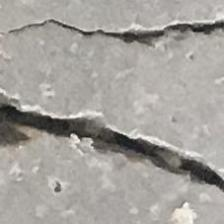Crack: (0, 63, 224, 215), (1, 15, 224, 52)
